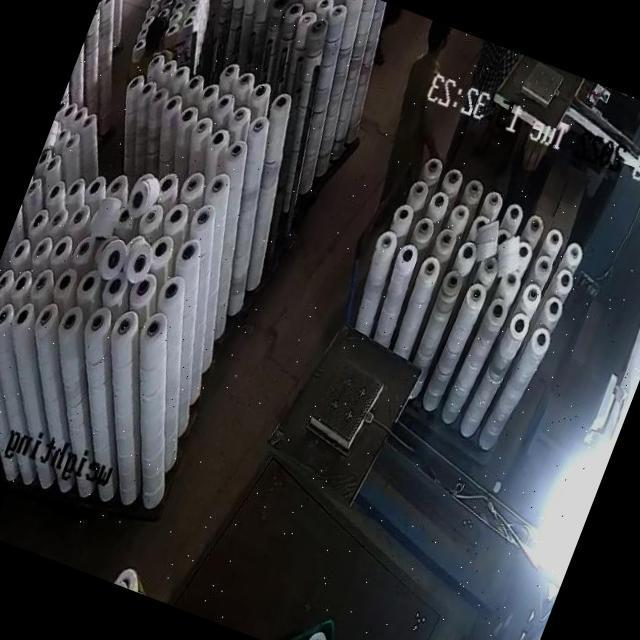person: (356, 21, 463, 236)
